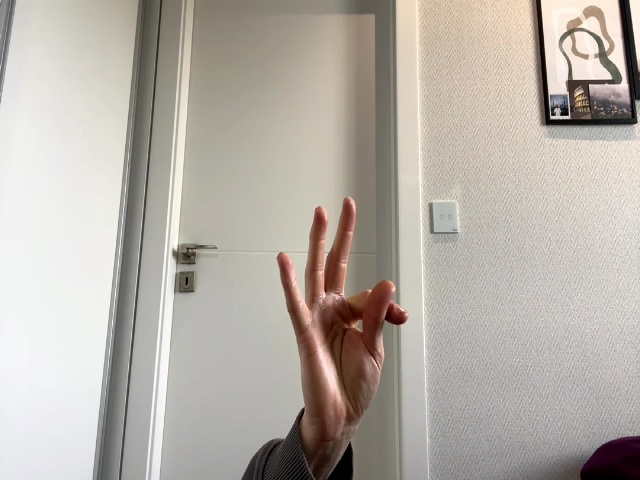T: (277, 196, 408, 418)
